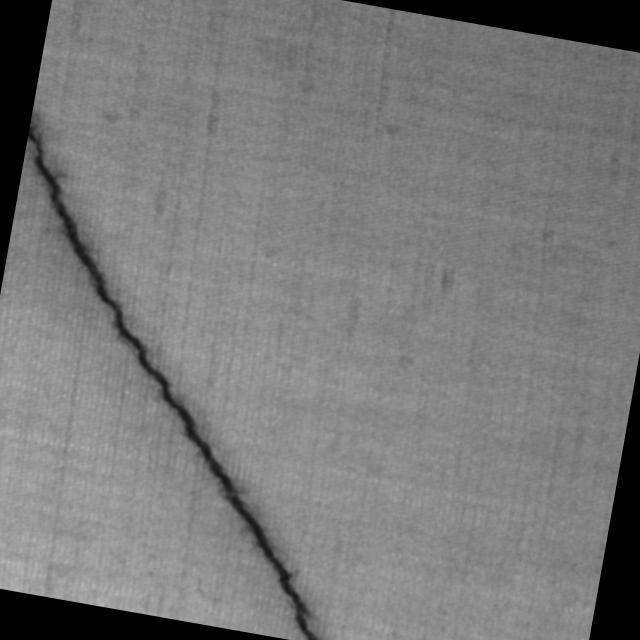Thread: (0, 108, 410, 640)
